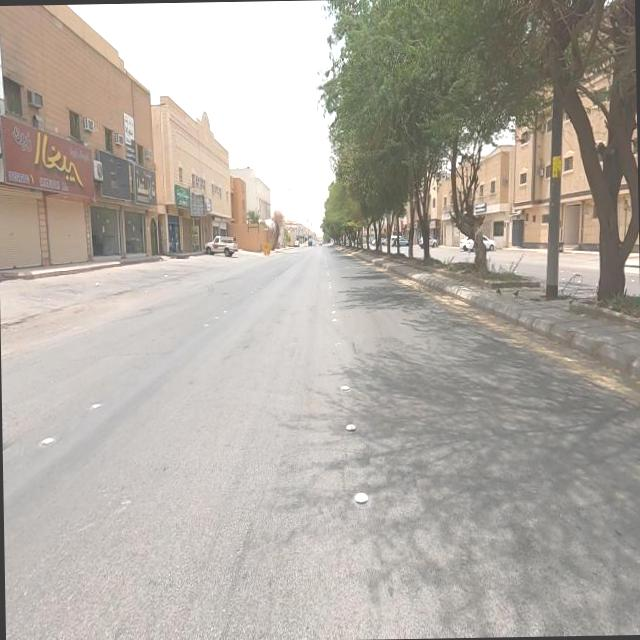debris: (85, 124, 152, 222), (177, 166, 224, 232)
